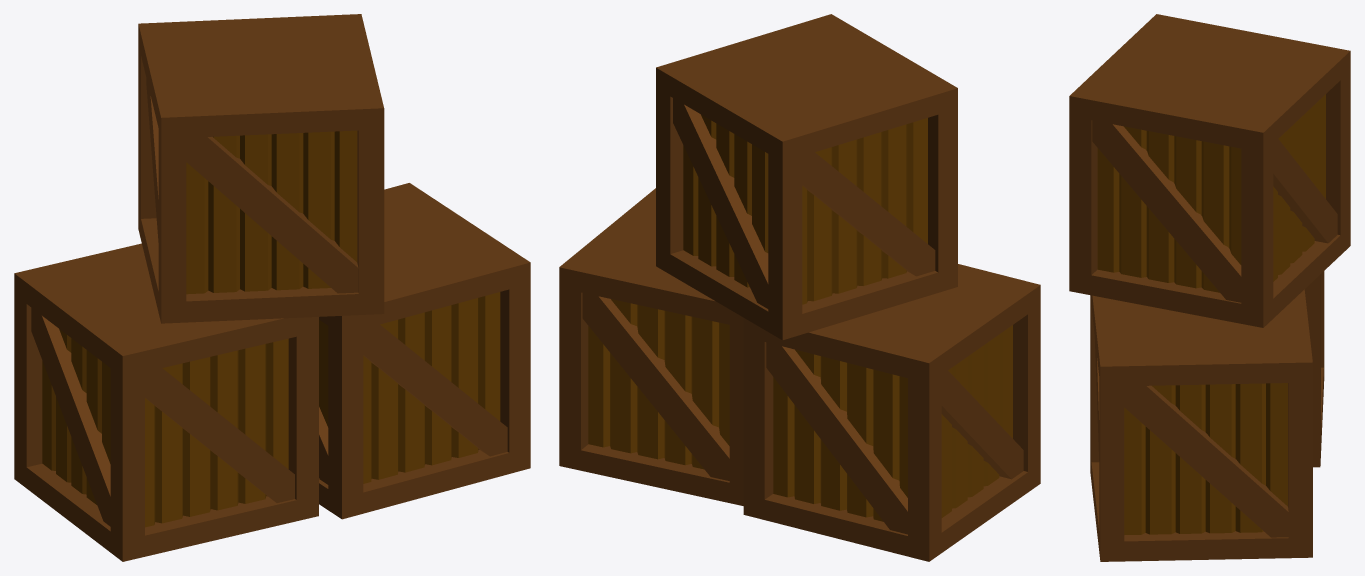
Rendered from stacked boxes.fbx.
3 views of the same model, side by side, from view 1: azimuth 30°, elevation 25°; view 2: azimuth 150°, elevation 25°; view 3: azimuth 270°, elevation 25° (orthographic). The views are drawn at different scales.
Visible parts, largest first — view 1: crate.002; view 2: crate.002; view 3: crate.002.
Part boxes in pixels (bbox=[...]): crate.002: bbox=[14, 14, 530, 561]; crate.002: bbox=[559, 14, 1040, 561]; crate.002: bbox=[1069, 14, 1350, 561].
Bounding box in the file's own units: 488 × 477 × 311.
